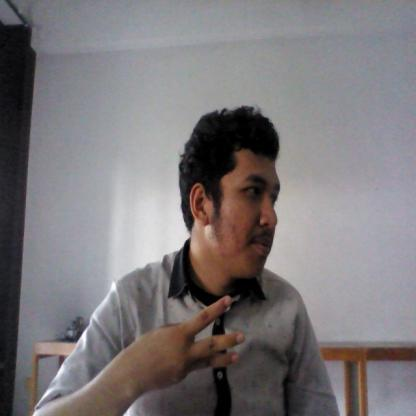E: (140, 294, 246, 388)
